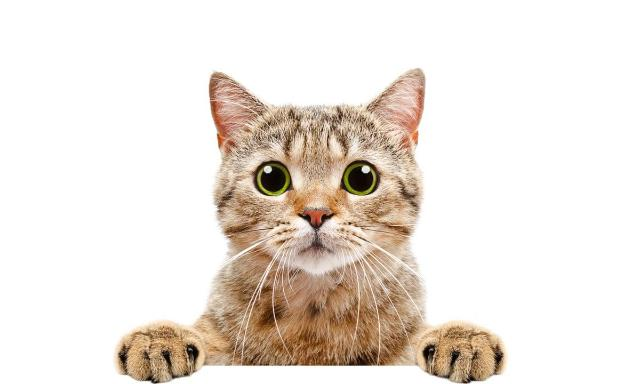cat: (118, 66, 508, 384)
